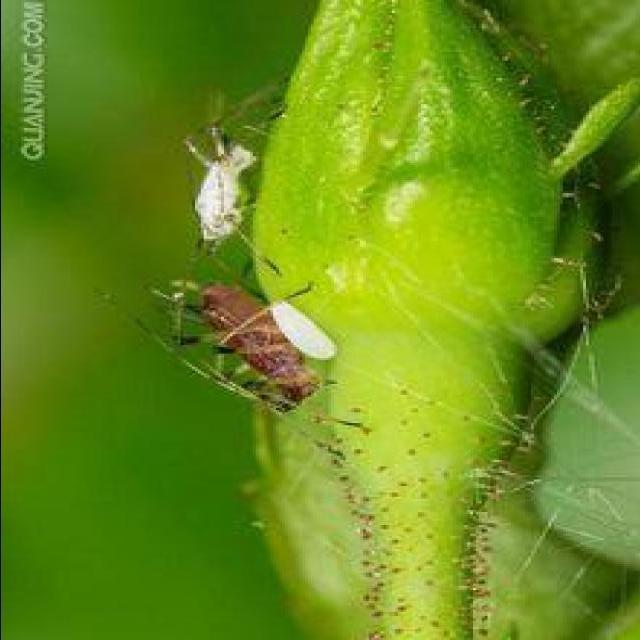aphid: (147, 274, 346, 408), (167, 115, 283, 258)
